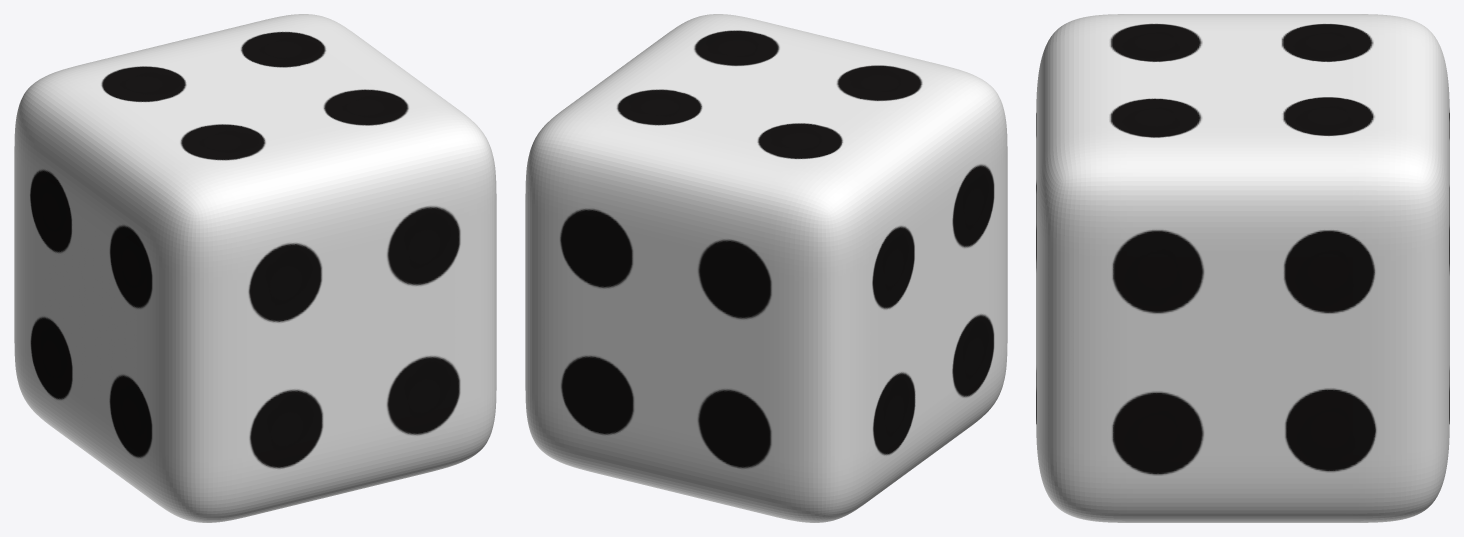
Rendered from Dice4.glb.
3 renders of one model, left to right at view 1: azimuth 30°, elevation 25°; view 2: azimuth 150°, elevation 25°; view 3: azimuth 270°, elevation 25°, orthographic. The views are drawn at different scales.
Parts seen in each view (by area): view 1: Dice_20Ready; view 2: Dice_20Ready; view 3: Dice_20Ready.
Part boxes in pixels (bbox=[...]): Dice_20Ready: bbox=[14, 14, 496, 522]; Dice_20Ready: bbox=[525, 14, 1007, 522]; Dice_20Ready: bbox=[1036, 14, 1449, 522].
Bounding box in the file's own units: 1 × 1 × 1.
Materials: 1 (1 with a texture image).
